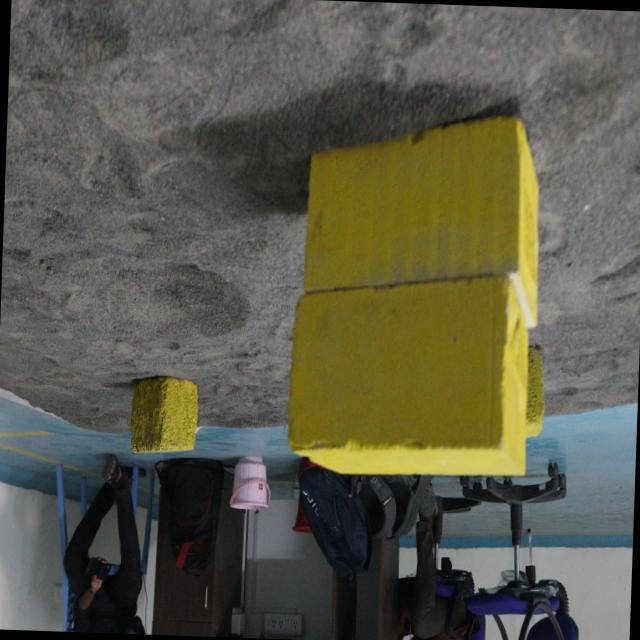box: (288, 124, 540, 481), (126, 368, 202, 458)
crater: (87, 240, 260, 360)
